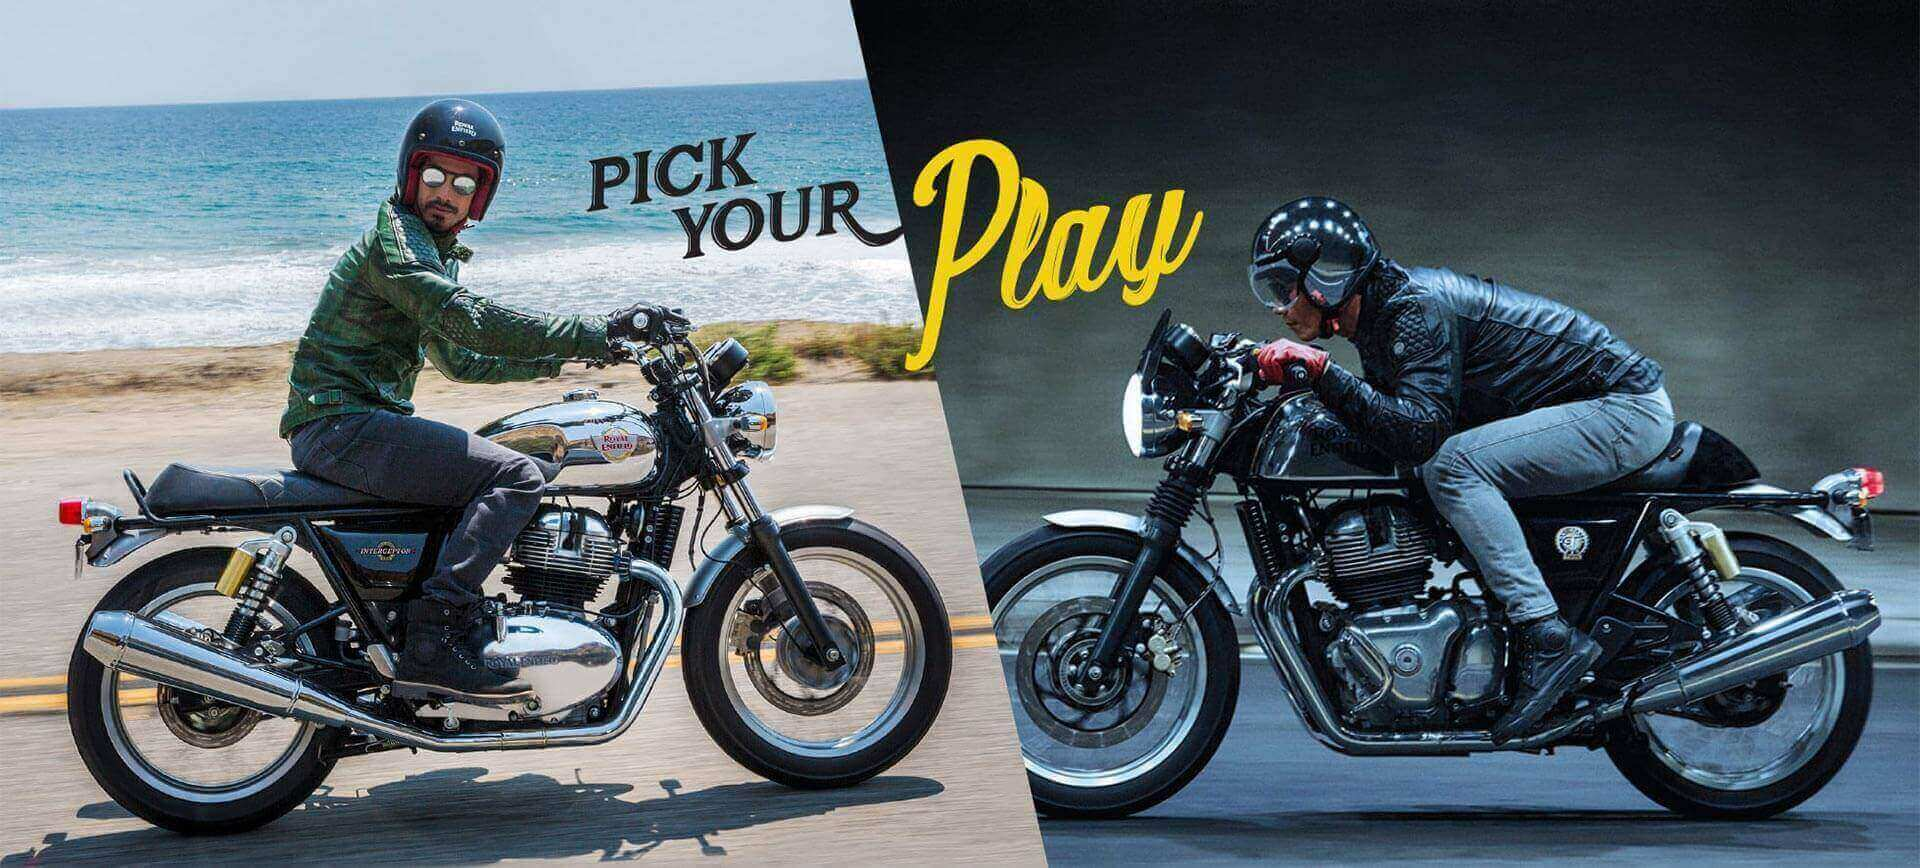helmet: (1164, 147, 1455, 386), (351, 73, 566, 320)
